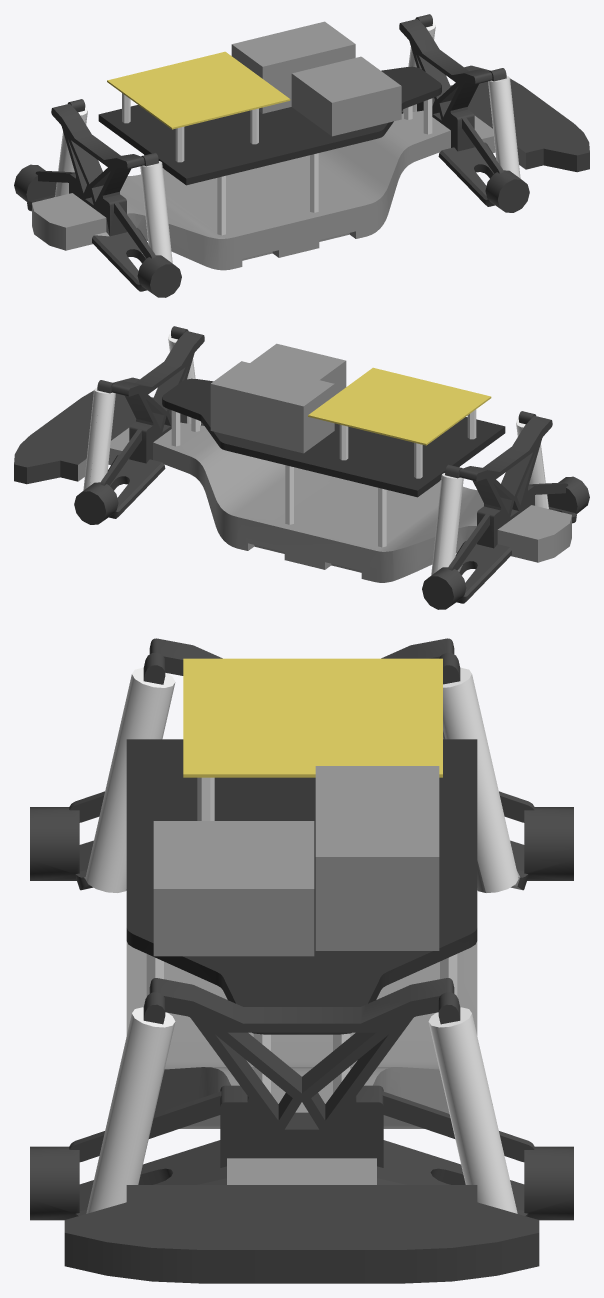
Rendered from car.dae.
The picture shows the model from 3 angles, top to bottom: view 1: azimuth 30°, elevation 25°; view 2: azimuth 150°, elevation 25°; view 3: azimuth 270°, elevation 25°; orthographic projection. The views are drawn at different scales.
Parts seen in each view (by area): view 1: car; view 2: car; view 3: car.
Boxes of the visible parts, x1,y1,x2,y2 form: car: (14, 14, 589, 297); car: (14, 326, 589, 609); car: (30, 638, 573, 1283).
Bounding box in the file's own units: 0.4733 × 0.22 × 0.133.
